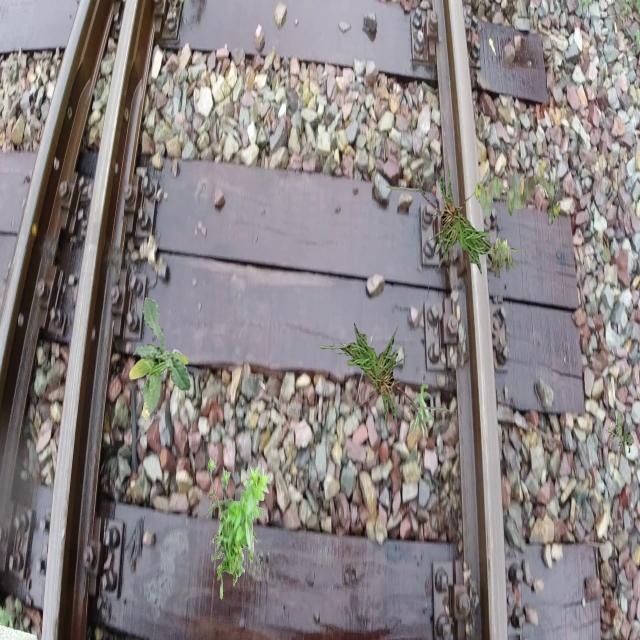Plant: (306, 322, 449, 442), (386, 155, 530, 274), (207, 456, 272, 600), (129, 297, 192, 422), (474, 159, 560, 228), (408, 383, 434, 440), (606, 412, 634, 453), (490, 236, 516, 278)
